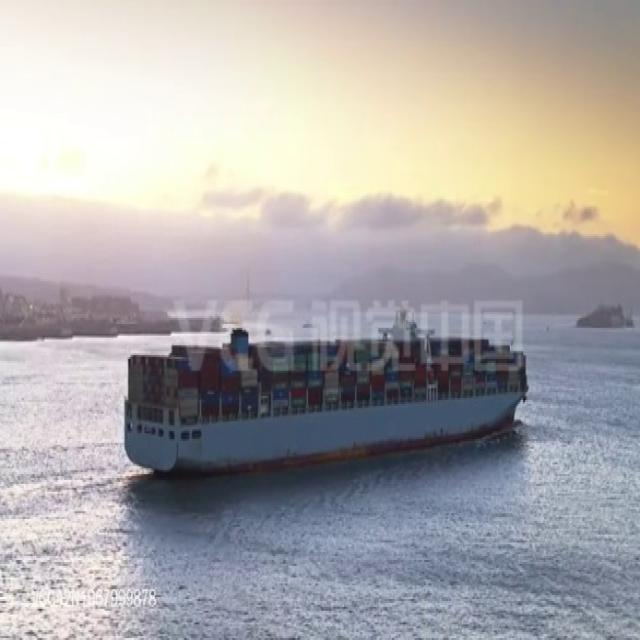cargoship: (121, 331, 526, 474)
